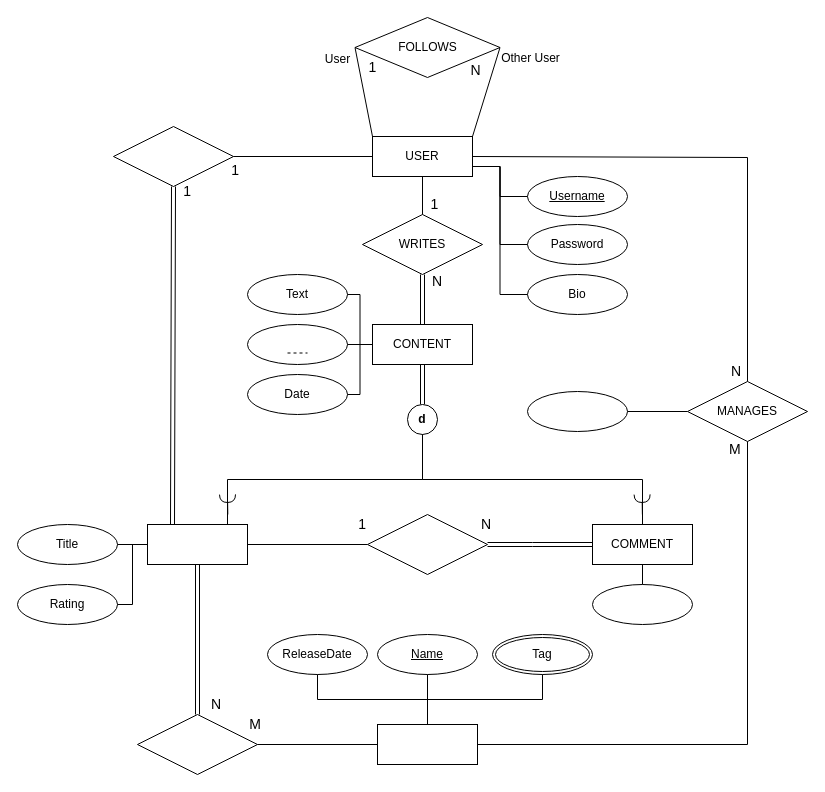
Some shapes in this 825 by 792 pixel diagram are drawn without their labels. The shapes that lost their labels are listed below. From the top down, each one's box as (x1, y1, x2, y2) in pixels, then its label:
(112, 126, 234, 186): PINS
(246, 324, 348, 364): ID
(526, 390, 628, 432): isAdmin
(146, 524, 248, 564): REVIEW
(366, 514, 488, 574): HAS
(592, 584, 692, 624): Opinion
(136, 714, 258, 774): COVERS
(376, 724, 478, 764): GAME
